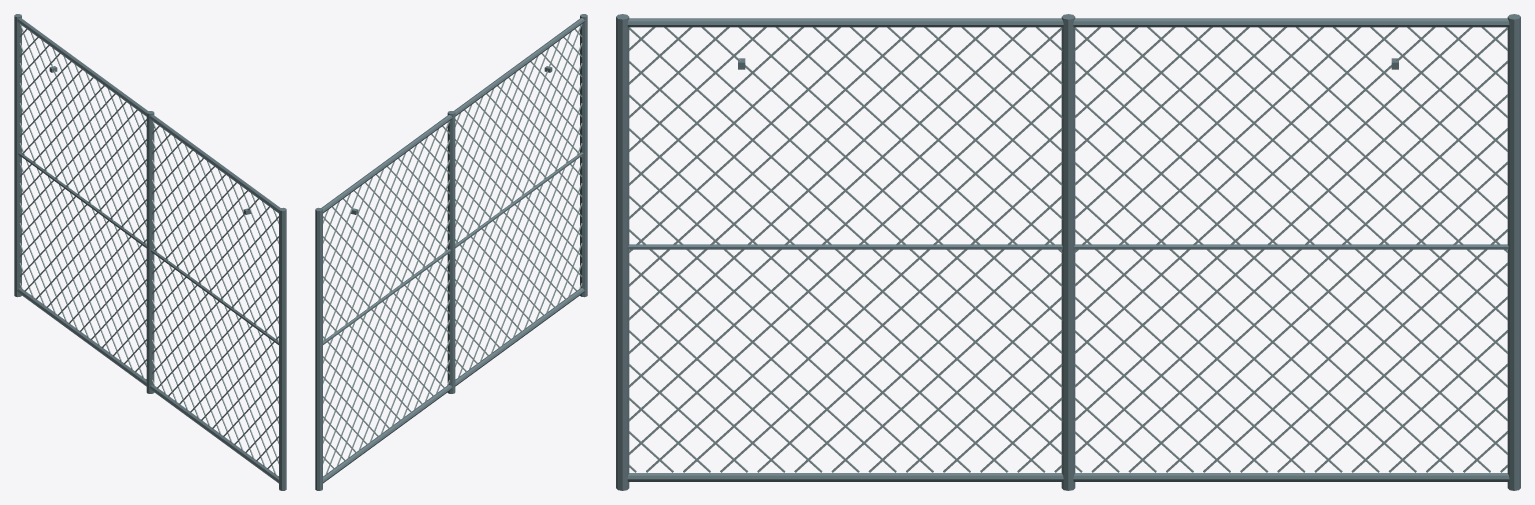
Rendered from chain_link_fence.glb.
3 renders of one model, left to right at view 1: azimuth 30°, elevation 25°; view 2: azimuth 150°, elevation 25°; view 3: azimuth 270°, elevation 25°, orthographic. The views are drawn at different scales.
Visible parts, largest first — view 1: chain_link_fence; view 2: chain_link_fence; view 3: chain_link_fence.
Part boxes in pixels (box(x1,y1,x2,y2)): chain_link_fence: box(14, 14, 286, 490); chain_link_fence: box(315, 14, 587, 490); chain_link_fence: box(616, 14, 1520, 490).
Bounding box in the file's own units: 0.09 × 3.5 × 6.09.
